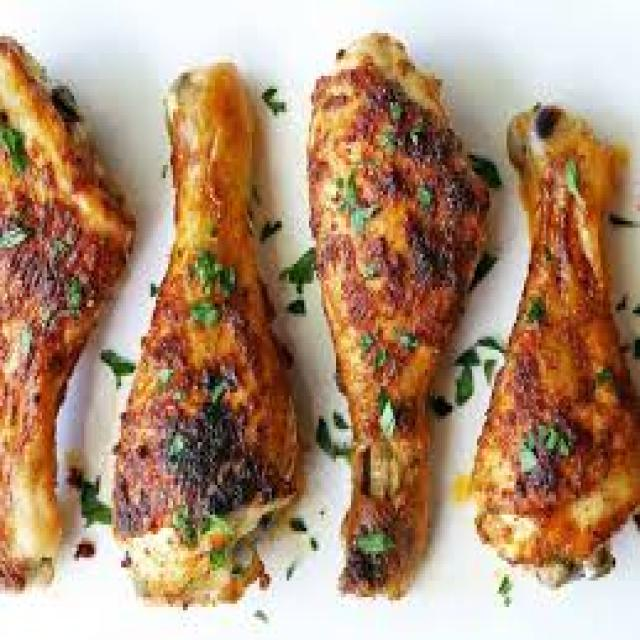Frango: (2, 33, 640, 591)
